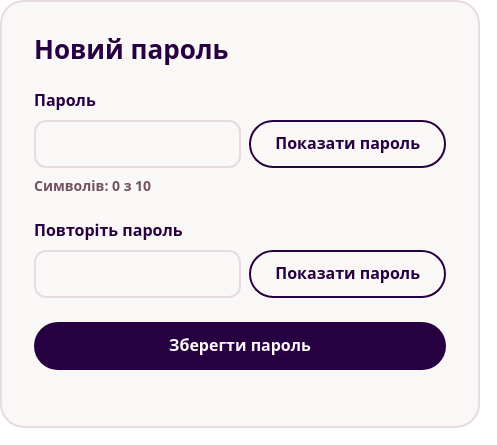
the reset page › an expired or used link says so and links to a new one
Type "ялинка-під-вікном" into the password field labelled "Пароль" at (138, 144), box [34,120,241,168]
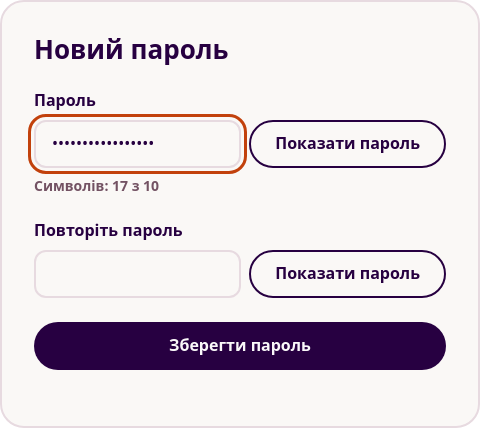
Type "ялинка-під-вікном" into the password field labelled "Повторіть пароль" at (138, 274), box [34,250,241,298]
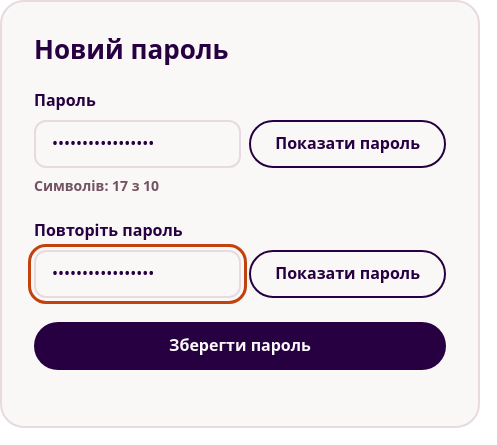
Click the button "Зберегти пароль" at (240, 346), box [34,322,446,370]
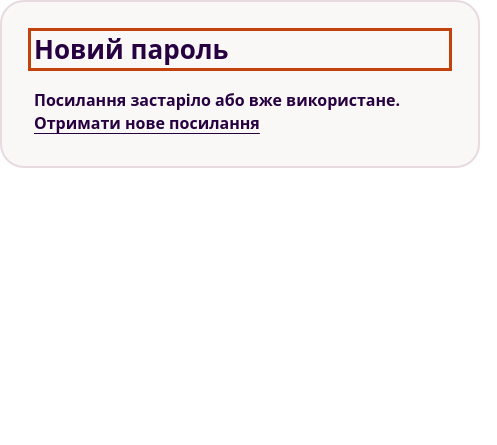
Expected: the text "Посилання застаріло або вже використане. Отримати нове посилання" is shown, [34,89,446,134]
